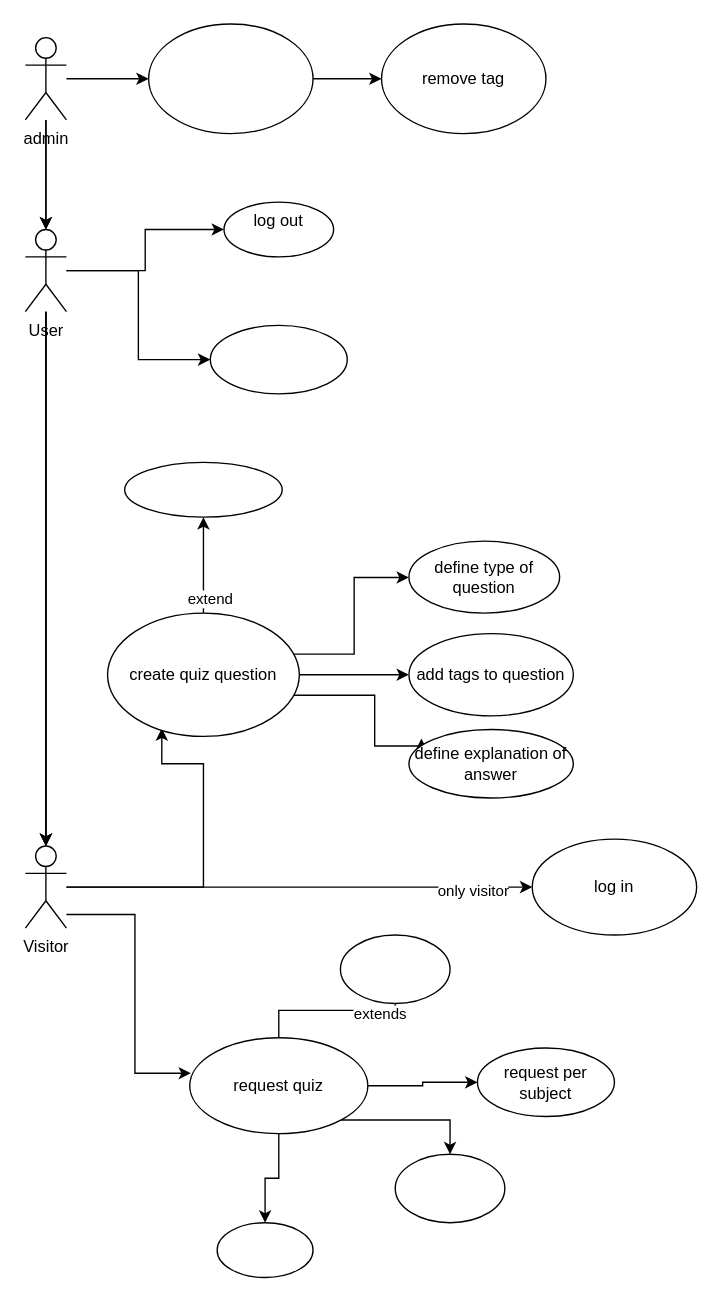
Some shapes in this 721 by 1302 pixel diagram are drawn without their labels. Here are the shapes that lost their labels. From the top down, the centre of each, then its label:
At point (230, 78): "make tag".
At point (278, 359): "request personal quiz".
At point (202, 489): "define mentioned paragraps".
At point (394, 969): "answer quiz questions".
At point (449, 1188): "see past quiz scores (if any)".
At point (264, 1249): "finish quiz".
